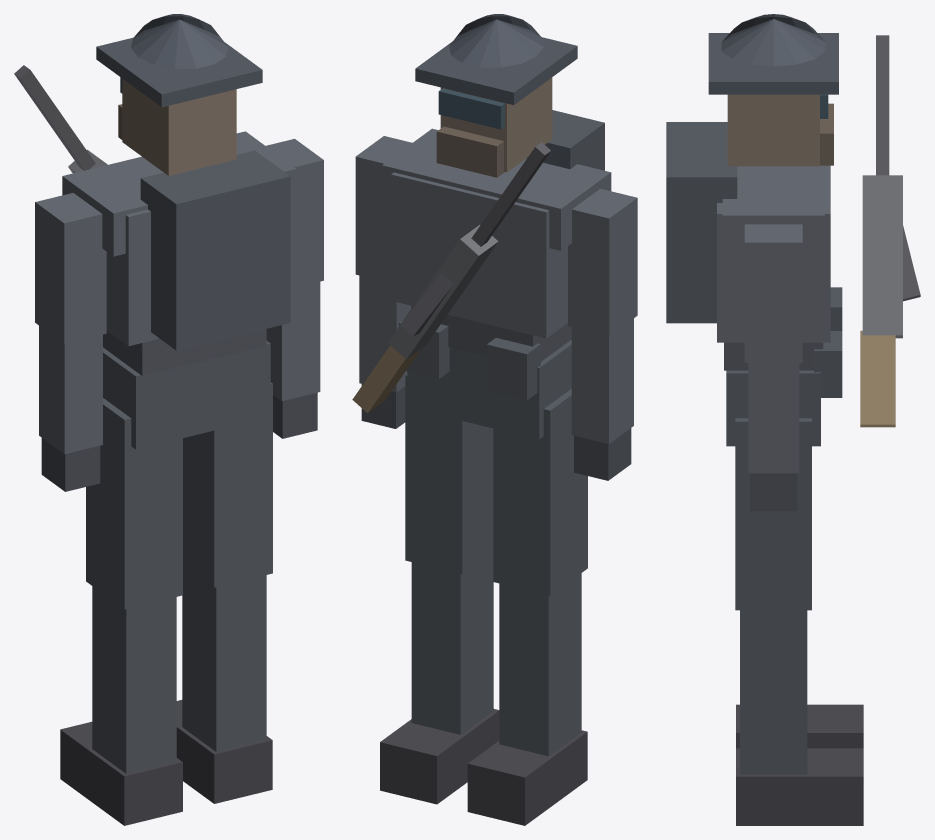
File: western_stalker.glb
The picture shows the model from 3 angles, left to right: view 1: azimuth 30°, elevation 25°; view 2: azimuth 150°, elevation 25°; view 3: azimuth 270°, elevation 25°; orthographic projection. The views are drawn at different scales.
Parts seen in each view (by area): view 1: Pack, LegLeft, ShinLeft, ShinRight, LegRight, Pelvis, ArmLeft, Head, ForearmLeft, Boot, Yoke, HelmetRim (+9 smaller); view 2: Body, LegLeft, ShinLeft, ShinRight, LegRight, ArmLeft, Pelvis, Yoke, Boot, Boot.001, ForearmLeft, HelmetRim (+16 smaller); view 3: Pack, ShinRight, LegRight, Boot.001, ArmRight, Yoke, Head, Rifle, Body, ForearmRight, HelmetRim, Helmet (+10 smaller).
Part boxes in pixels (left/top/right/bottom): Pack: left=140, top=150, right=290, bottom=350; LegLeft: left=86, top=398, right=182, bottom=609; ShinLeft: left=92, top=586, right=176, bottom=773; ShinRight: left=182, top=565, right=266, bottom=751; LegRight: left=183, top=382, right=272, bottom=587; Pelvis: left=103, top=341, right=270, bottom=449; ArmLeft: left=35, top=193, right=106, bottom=343; Head: left=122, top=79, right=236, bottom=175; ForearmLeft: left=39, top=326, right=102, bottom=454; Boot: left=60, top=721, right=182, bottom=825; Yoke: left=62, top=131, right=296, bottom=256; HelmetRim: left=96, top=38, right=262, bottom=107; Body: left=391, top=172, right=567, bottom=338; LegLeft: left=493, top=389, right=587, bottom=595; ShinLeft: left=499, top=573, right=581, bottom=756; ShinRight: left=411, top=552, right=493, bottom=734; LegRight: left=405, top=374, right=493, bottom=574; ArmLeft: left=568, top=188, right=637, bottom=336; Pelvis: left=407, top=340, right=571, bottom=439; Yoke: left=382, top=128, right=611, bottom=250; Boot: left=467, top=730, right=587, bottom=825; Boot.001: left=380, top=709, right=499, bottom=804; ForearmLeft: left=571, top=318, right=633, bottom=443; HelmetRim: left=415, top=37, right=577, bottom=105; Pack: left=666, top=122, right=737, bottom=323; ShinRight: left=740, top=610, right=807, bottom=774; LegRight: left=735, top=418, right=811, bottom=610; Boot.001: left=736, top=748, right=863, bottom=825; ArmRight: left=744, top=224, right=802, bottom=362; Yoke: left=722, top=165, right=824, bottom=258; Head: left=727, top=94, right=819, bottom=166; Rifle: left=862, top=175, right=902, bottom=338; Body: left=717, top=165, right=830, bottom=342; ForearmRight: left=748, top=363, right=799, bottom=473; HelmetRim: left=708, top=33, right=838, bottom=94; Helmet: left=721, top=14, right=825, bottom=66.
Size of the model in its own units: 0.6307 by 1.8 by 0.5372.
